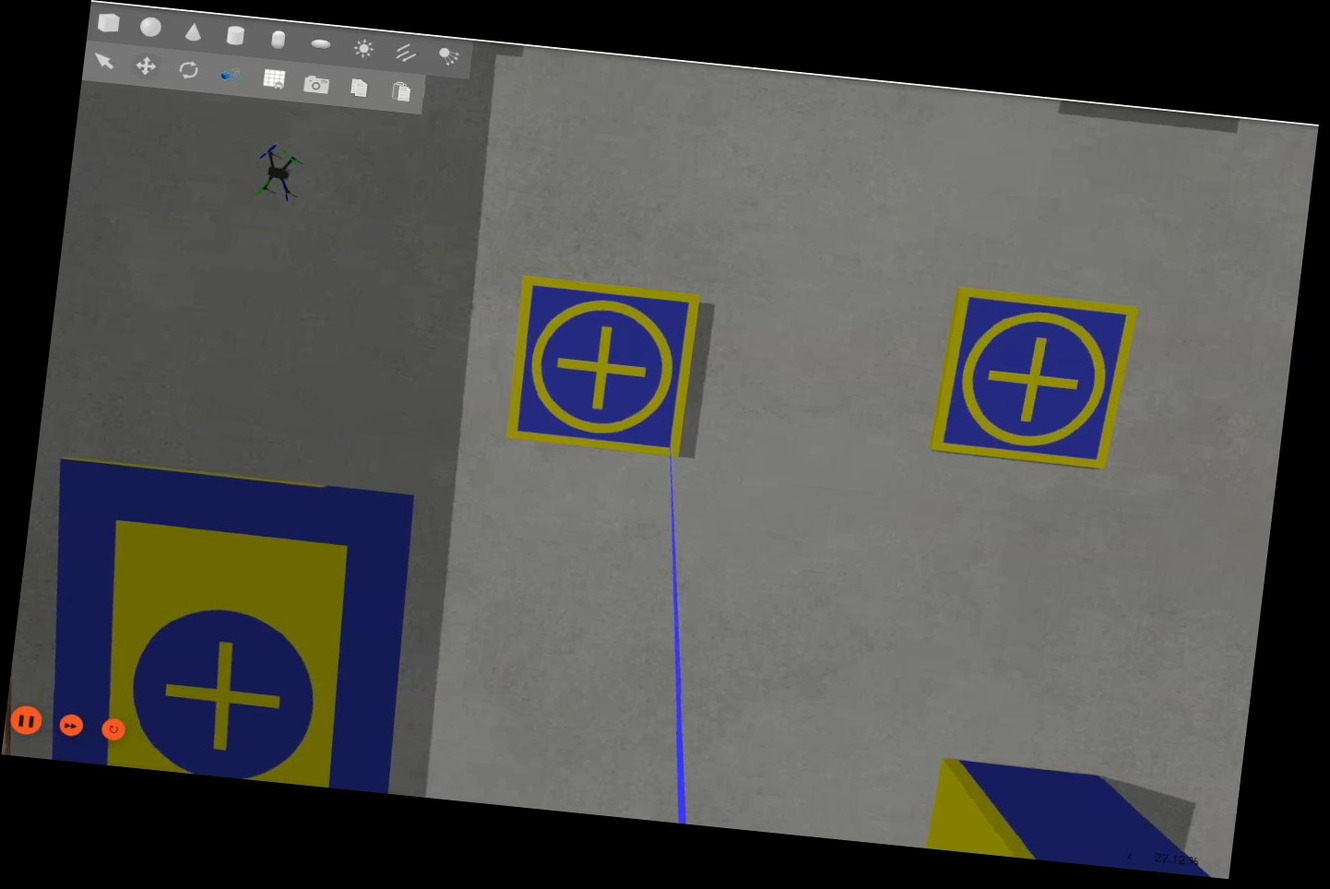large_base: (23, 455, 428, 798)
small_base: (931, 288, 1141, 476), (502, 275, 704, 462)
